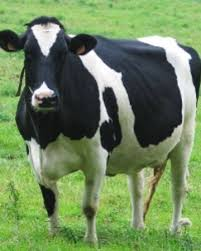waka: (1, 15, 195, 241)
